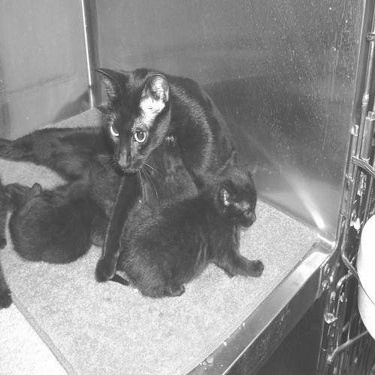cat: (124, 169, 266, 295), (87, 63, 239, 176), (1, 125, 195, 205), (10, 176, 99, 263)
